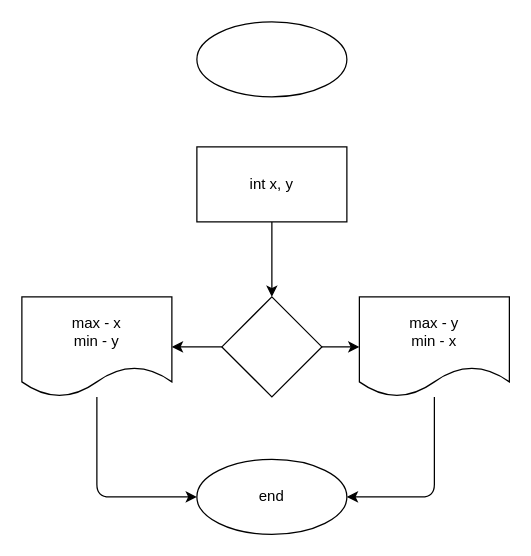
The diagram is 531 pixels wide and 556 high, and some of its shapes have lost their labels. Each missing label, with the box of its shape:
if (x > y): (221, 296, 322, 397)
start: (196, 21, 347, 97)
